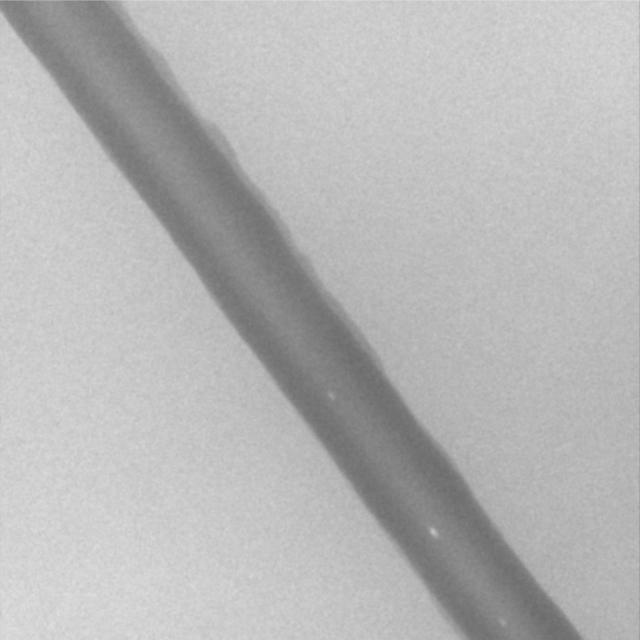air hole: (325, 389, 336, 402), (428, 526, 438, 538), (497, 616, 507, 627)
